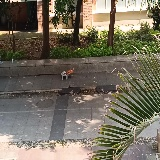fire: (66, 68, 73, 75)
